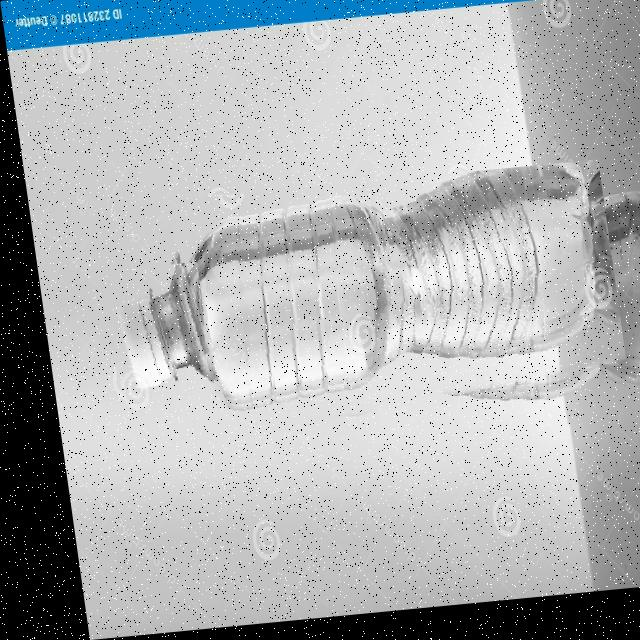litter: (78, 170, 620, 466), (79, 264, 208, 444)
